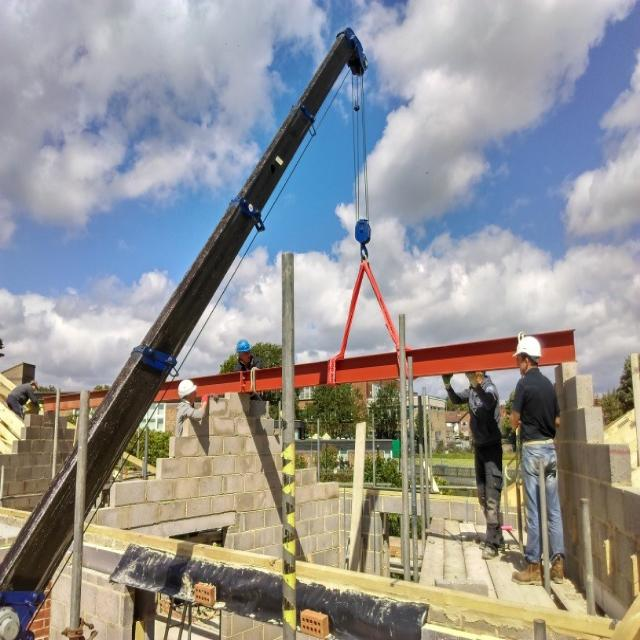steel beam: (43, 328, 577, 410)
